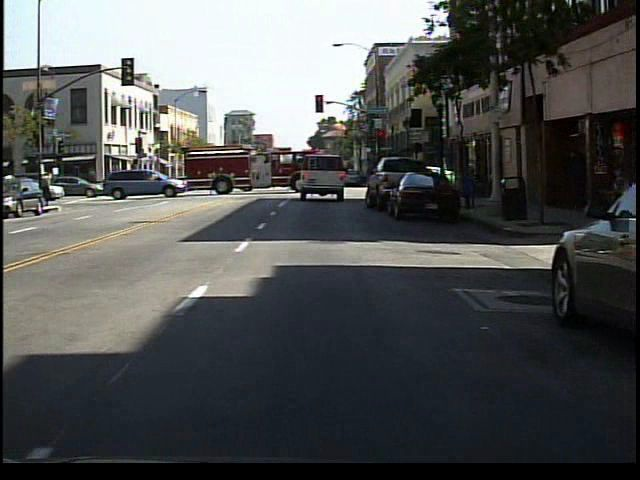person: (42, 169, 56, 207)
